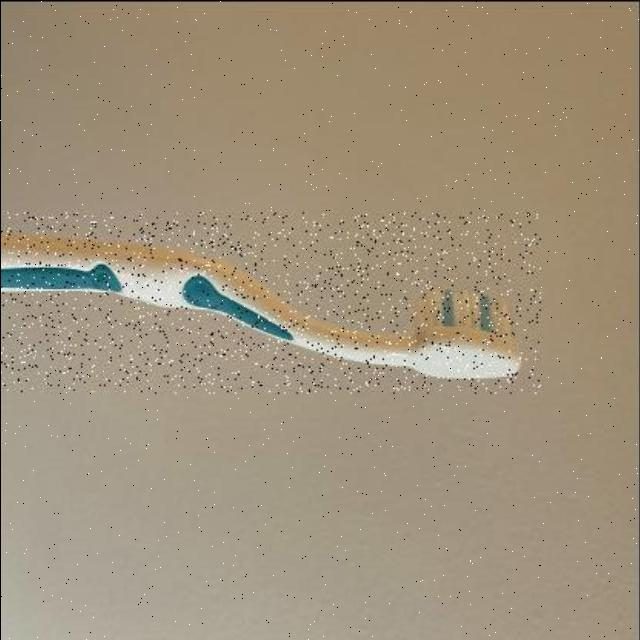toothbrush: (1, 212, 542, 392)
